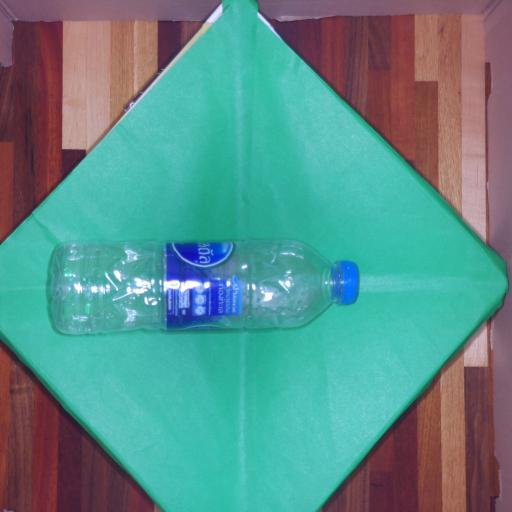bottle: (26, 224, 372, 346)
